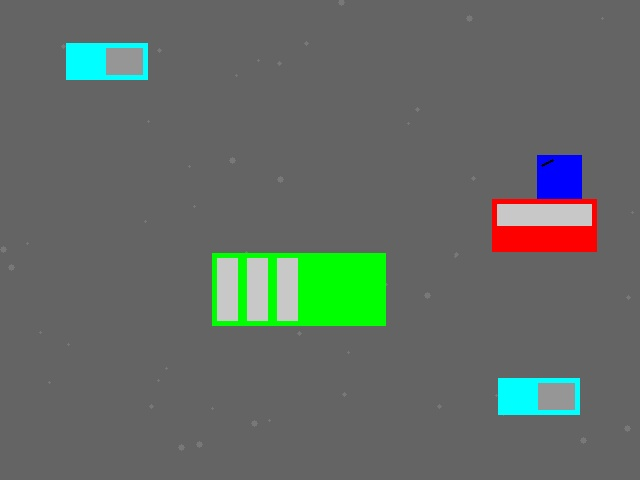bus: (212, 253, 385, 325)
car: (492, 199, 596, 251)
motorcycle: (537, 155, 581, 244)
truck: (498, 378, 579, 414), (66, 43, 147, 79)
